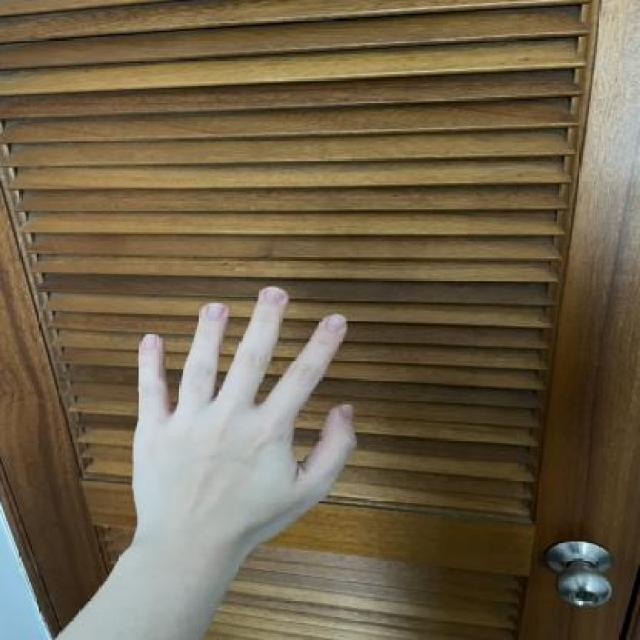no_glove: (118, 276, 365, 550)
